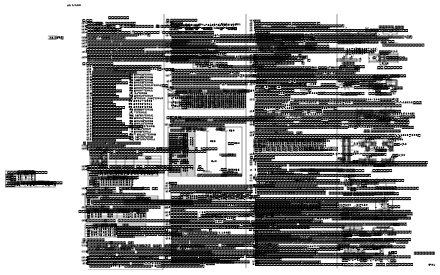corridor: (277, 127, 355, 141), (280, 233, 361, 244), (90, 36, 157, 49), (90, 70, 171, 80), (95, 113, 174, 123), (90, 56, 157, 66), (93, 90, 142, 100), (0, 96, 34, 106)
door: (387, 198, 389, 200), (98, 66, 99, 70)
room: (182, 101, 265, 154), (182, 173, 266, 194), (123, 36, 157, 47), (298, 220, 316, 233), (425, 197, 437, 205), (48, 248, 58, 252)
staircase: (426, 198, 437, 204), (426, 199, 437, 202), (429, 198, 434, 204), (279, 68, 282, 70), (183, 131, 185, 133), (277, 124, 280, 125), (280, 222, 282, 223), (23, 93, 25, 94), (425, 117, 426, 118), (398, 170, 399, 171), (393, 166, 394, 167), (398, 136, 399, 137), (398, 134, 399, 135), (430, 170, 431, 171), (410, 117, 411, 118), (397, 117, 398, 118), (422, 170, 423, 171), (430, 118, 430, 118), (430, 118, 431, 118), (425, 116, 425, 116), (411, 136, 411, 137), (411, 134, 411, 135), (403, 129, 404, 129), (405, 129, 406, 129), (410, 116, 411, 116), (403, 118, 403, 118), (397, 116, 398, 116), (402, 118, 403, 118), (430, 137, 430, 137), (432, 129, 433, 129), (430, 129, 430, 129), (424, 134, 424, 135), (424, 136, 424, 137)
wall: (92, 0, 176, 9), (120, 213, 162, 218), (182, 187, 201, 194), (239, 106, 244, 107)
